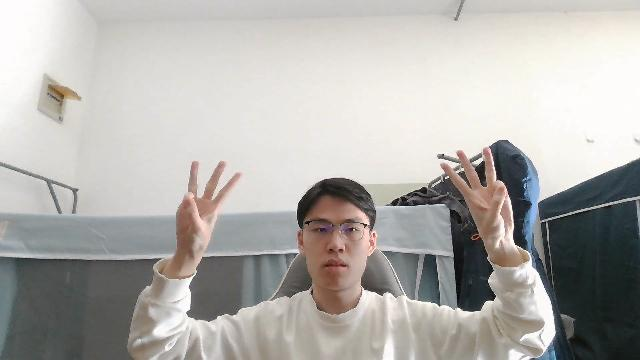three: (438, 143, 519, 256), (168, 156, 245, 269)
